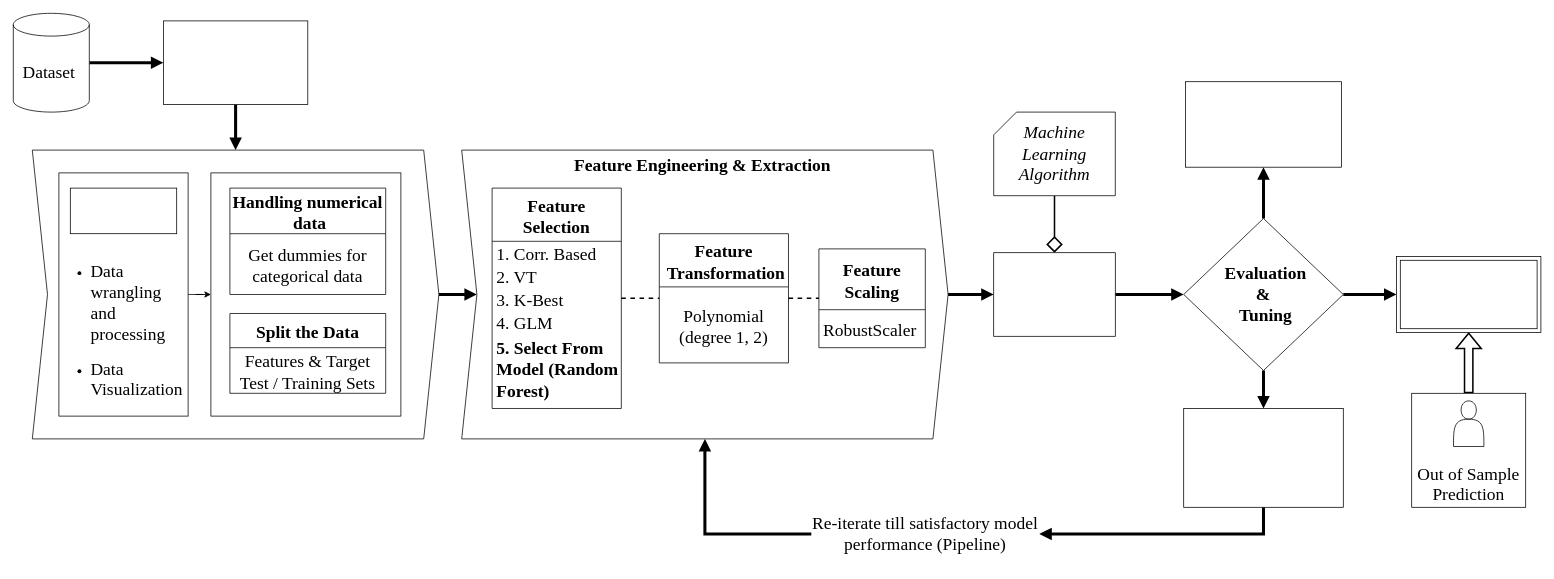
The diagram is 1554 pixels wide and 579 high, and some of its shapes have lost their labels. The centre of each missing label's shape, as x and y in pixels:
Best Model selection: (1468,294)
Data Retrieval: (235,62)
EDA: (123,210)
Linear Regression Model: (1263,124)
Modeling: (1054,294)
Other Linear Regression Models: (1263,457)
